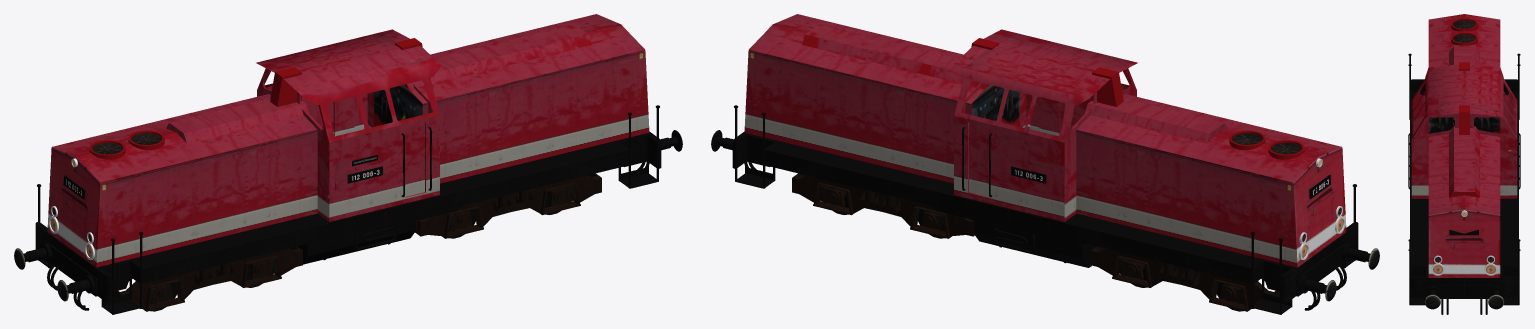
The picture shows the model from 3 angles, left to right: view 1: azimuth 30°, elevation 25°; view 2: azimuth 150°, elevation 25°; view 3: azimuth 270°, elevation 25°; orthographic projection. The views are drawn at different scales.
Visible parts, largest first — view 1: DR_V100; view 2: DR_V100; view 3: DR_V100.
Boxes of the visible parts, bbox=[...] form: DR_V100: bbox=[14, 14, 682, 314]; DR_V100: bbox=[711, 14, 1379, 314]; DR_V100: bbox=[1408, 14, 1520, 314].
Bounding box in the file's own units: 14.28 × 4.17 × 3.07.
